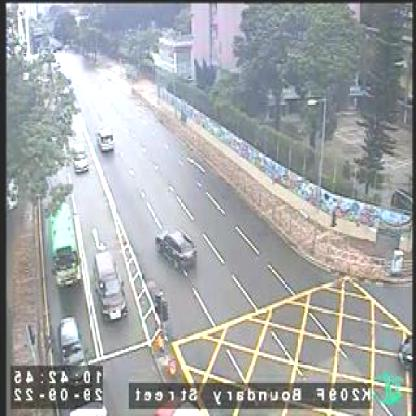Car: (55, 317, 96, 390), (91, 255, 131, 322), (155, 226, 200, 270), (71, 142, 91, 173), (96, 126, 117, 151)
Minibus: (48, 196, 83, 288)
